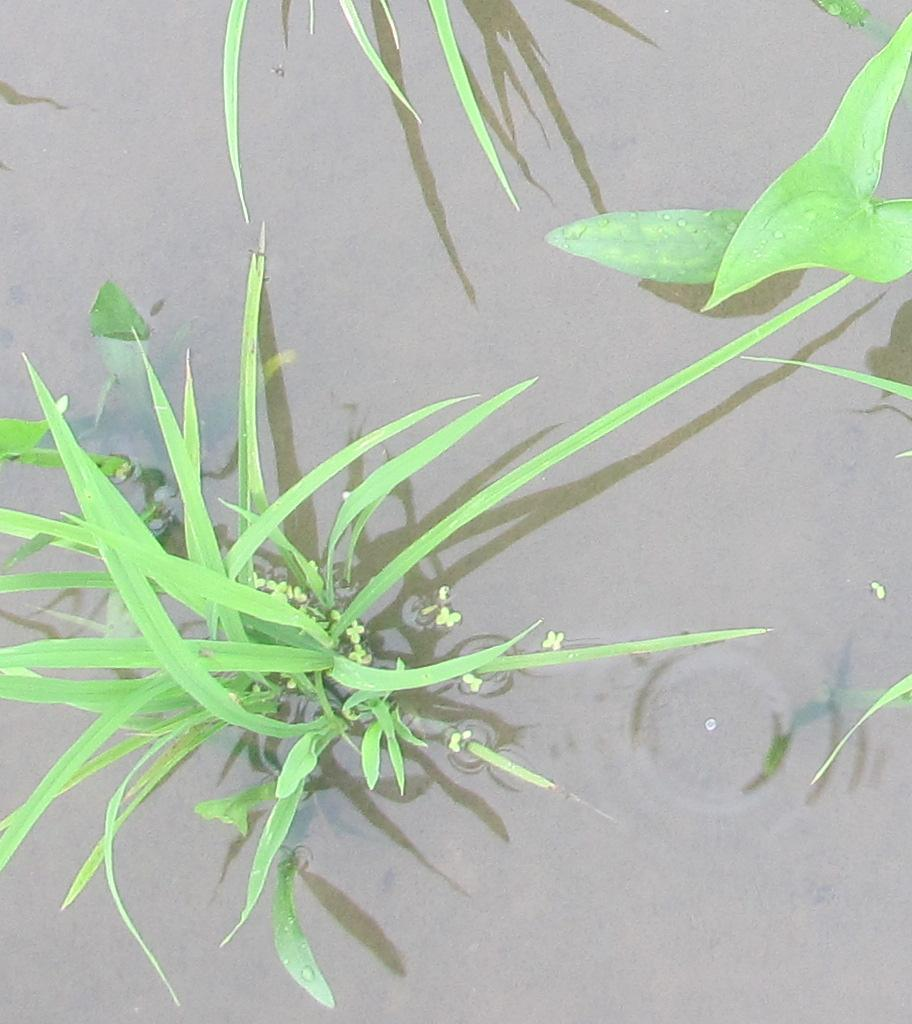Weed: (763, 124, 886, 285), (544, 197, 755, 289)
